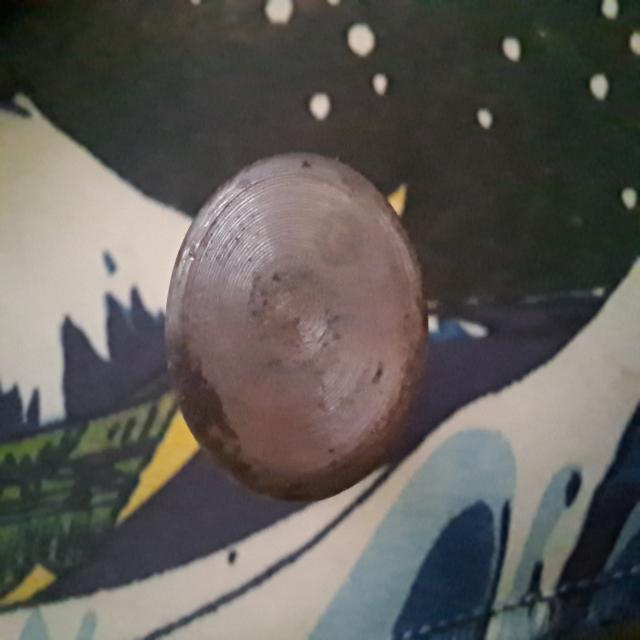defect: (310, 205, 367, 273)
planson: (163, 152, 427, 498)
